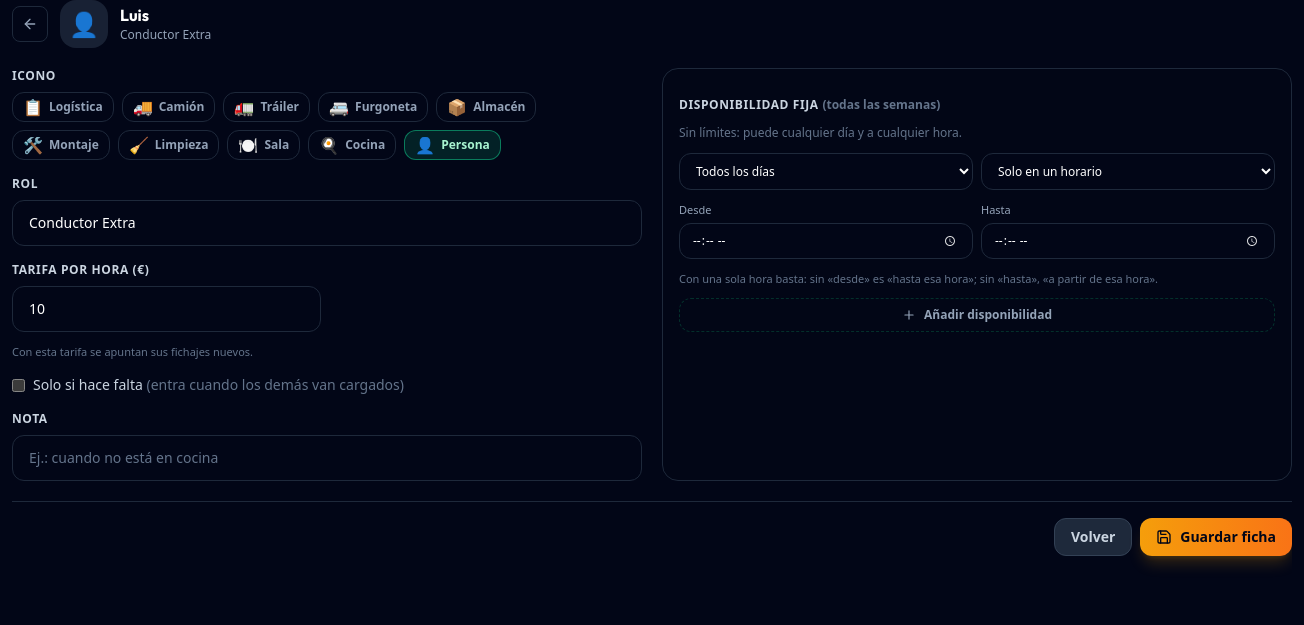
FichaTrabajador › BUG evitado: el horario escrito sin pulsar «Añadir disponibilidad» se perdía al guardar
Select "De lunes a viernes" in the dropdown named "Día" at (826, 172), box [679,153,973,190]
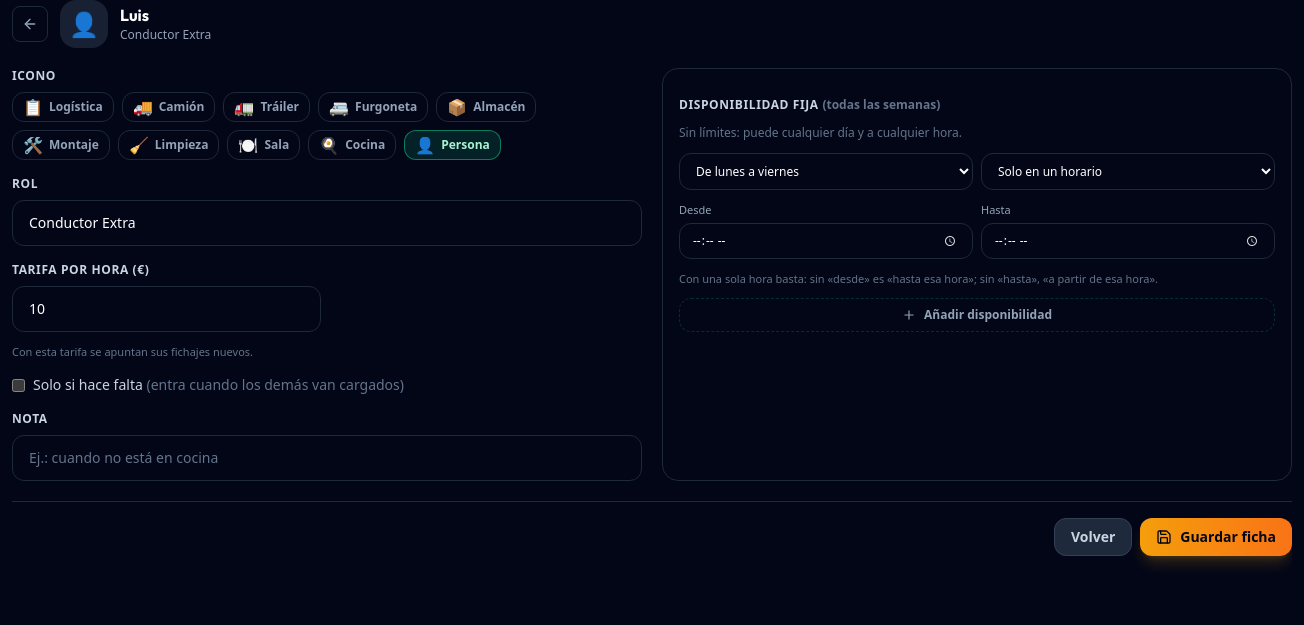
Type "15:30" into the time field labelled "Desde" at (826, 241), box [679,222,973,259]
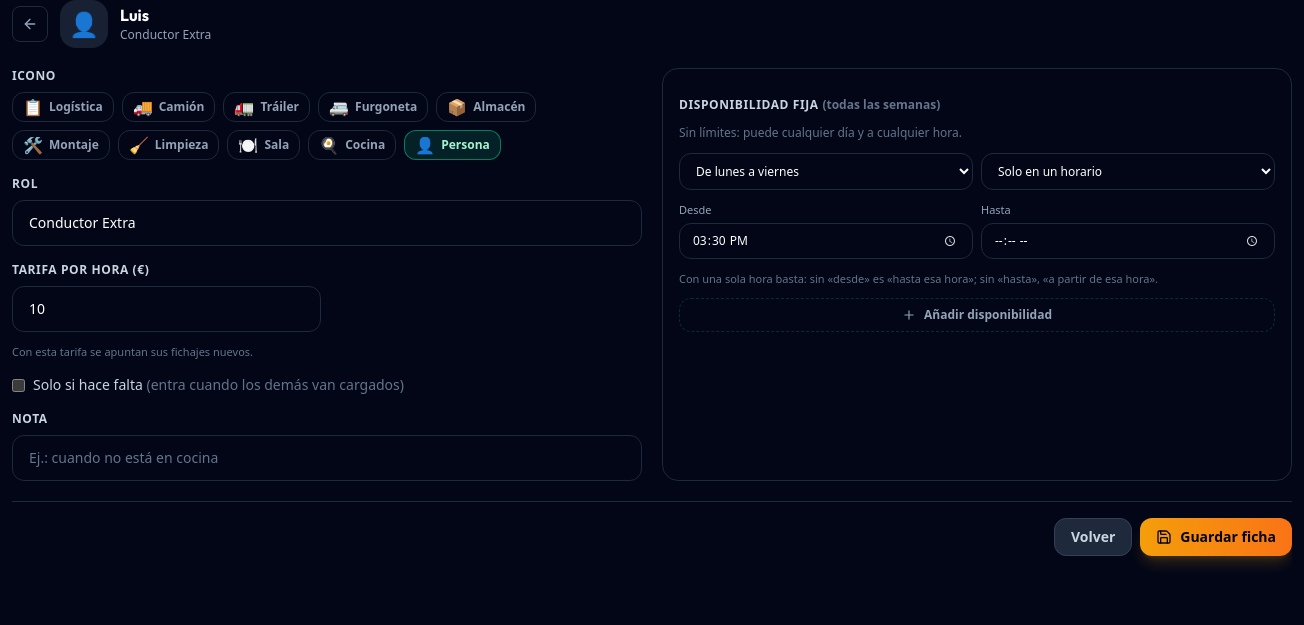
Click the button "Guardar ficha" at (1216, 537), box [1140,518,1292,556]
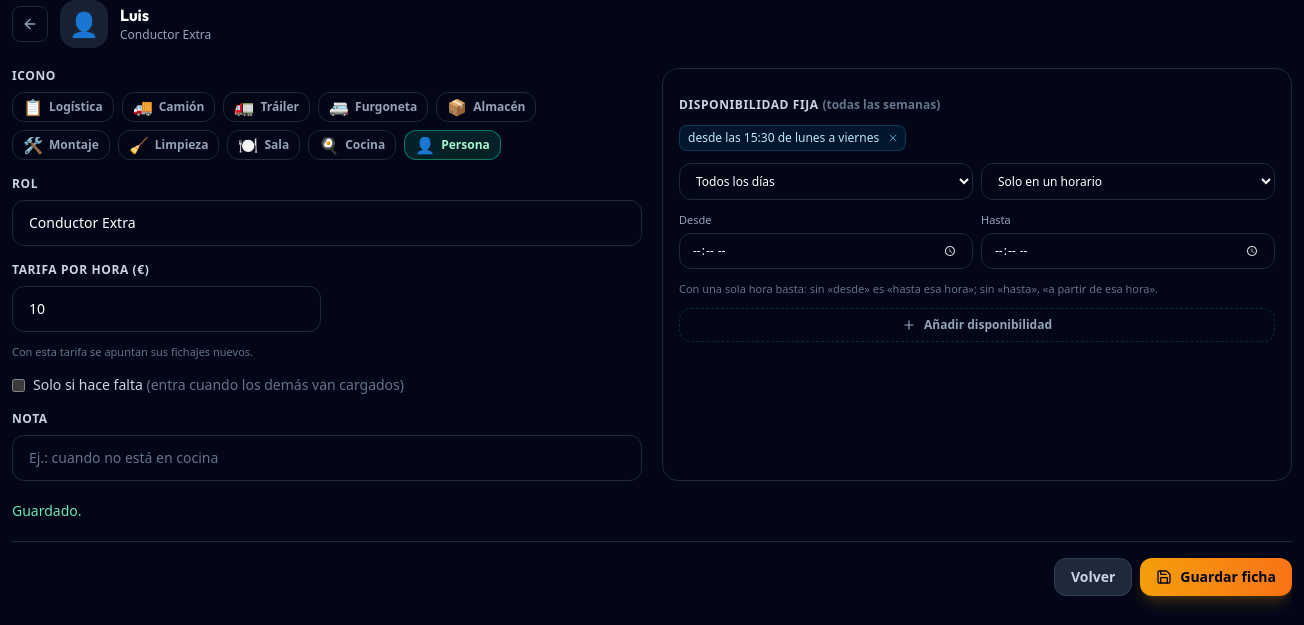
Expected: the list item "desde las 15:30 de lunes a viernes" is shown, [679,125,906,151]
